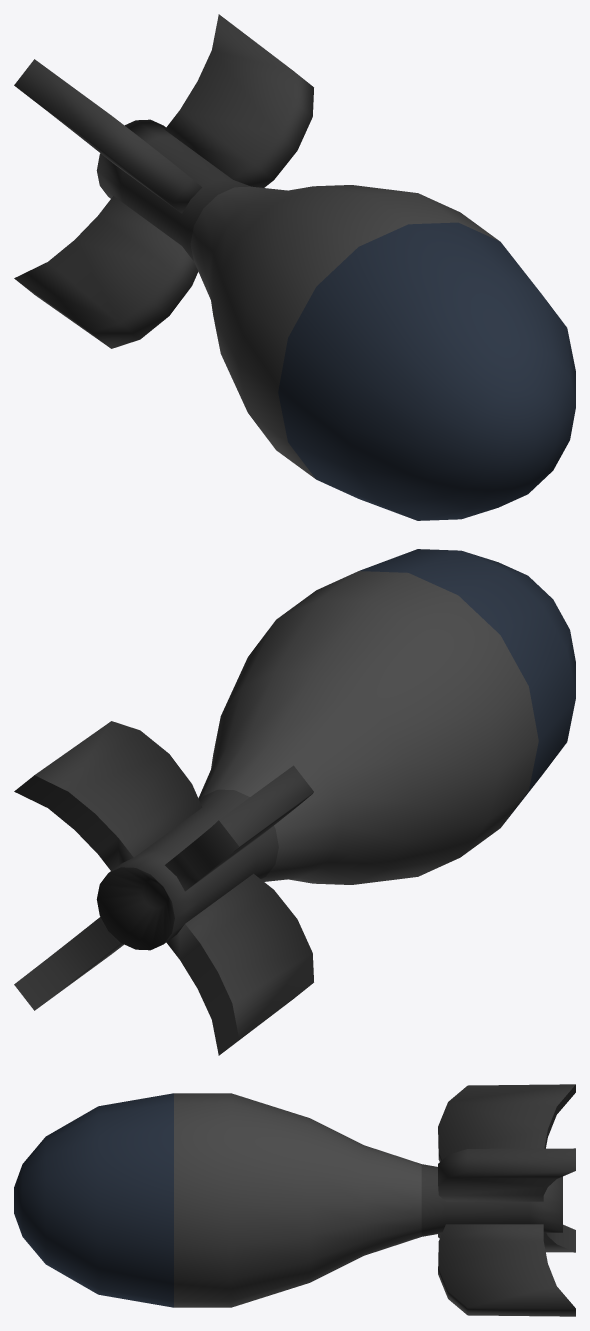
Rendered from bomb_1.fbx.
The picture shows the model from 3 angles, top to bottom: view 1: azimuth 30°, elevation 25°; view 2: azimuth 150°, elevation 25°; view 3: azimuth 270°, elevation 25°; orthographic projection. The views are drawn at different scales.
Visible parts, largest first — view 1: bomb_1; view 2: bomb_1; view 3: bomb_1.
Boxes of the visible parts, x1,y1,x2,y2 form: bomb_1: [14, 14, 575, 520]; bomb_1: [14, 549, 575, 1055]; bomb_1: [14, 1084, 575, 1316].
Bounding box in the file's own units: 0.09 × 0.2356 × 0.09.
